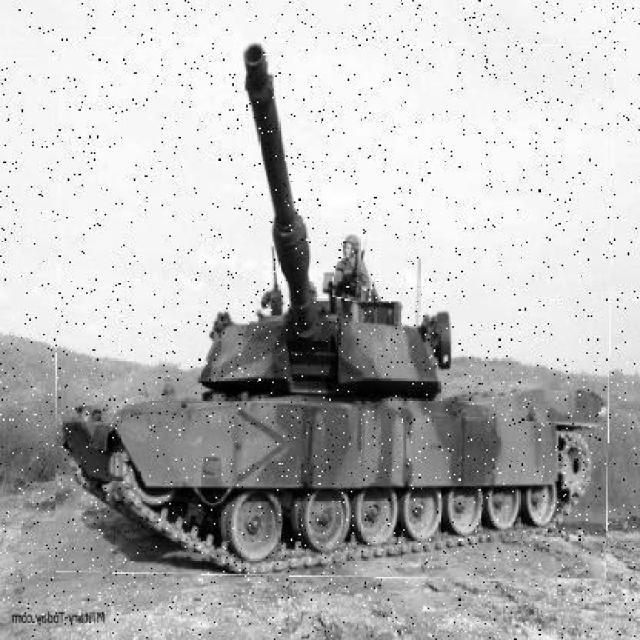Person: (335, 236, 379, 304)
Tank: (58, 40, 615, 580)
